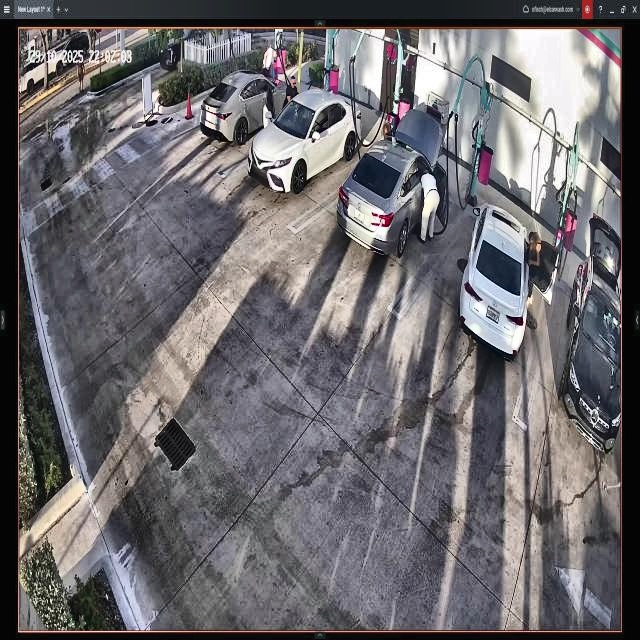Car: (336, 114, 448, 259), (460, 201, 558, 358), (249, 92, 361, 190), (196, 68, 298, 141)
